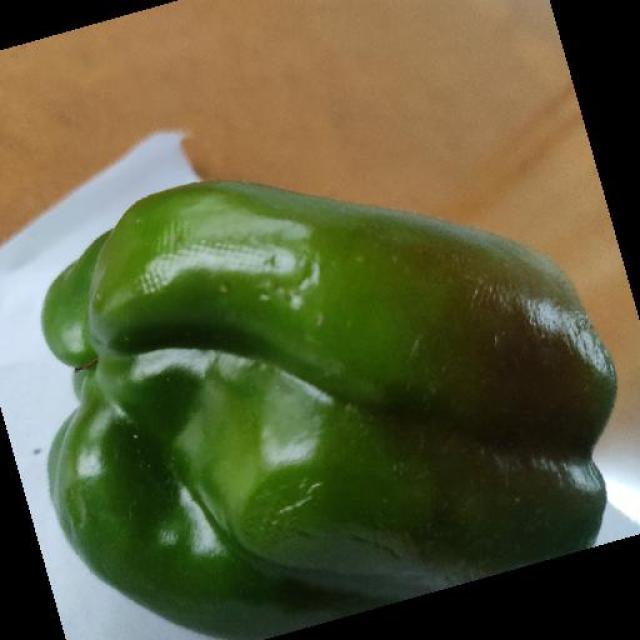Stale_Capsicum: (107, 131, 640, 640)
